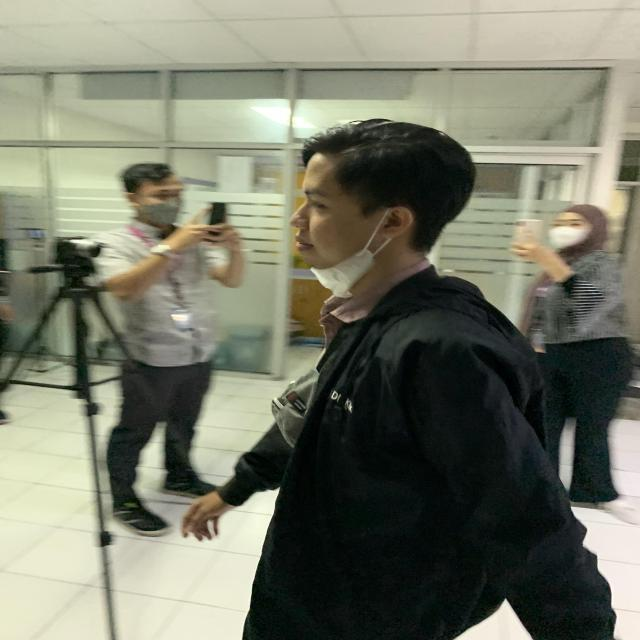hairnet: (296, 218, 420, 303)
